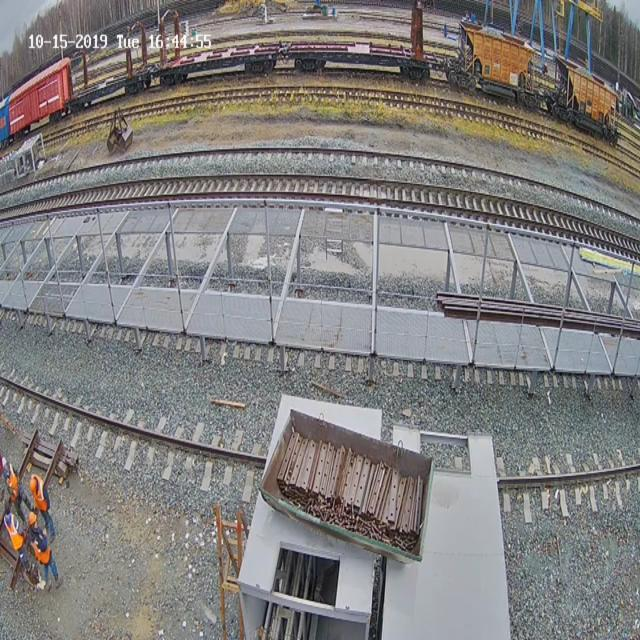Helmet: (29, 474, 38, 494), (28, 512, 36, 526)
Person: (25, 511, 63, 591), (4, 503, 32, 576), (29, 474, 56, 542), (1, 443, 24, 499)
